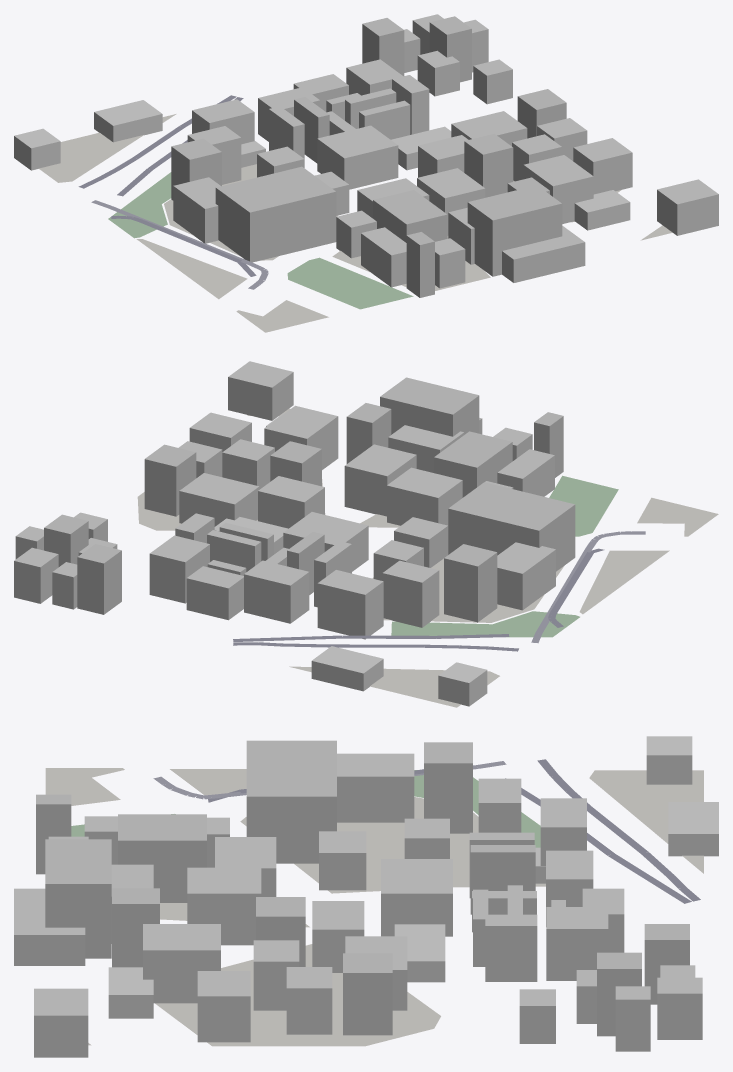
Rendered from 129_97_mid.glb.
3 renders of one model, top to bottom at view 1: azimuth 30°, elevation 25°; view 2: azimuth 150°, elevation 25°; view 3: azimuth 270°, elevation 25°, orthographic. The views are drawn at different scales.
Bounding box in the file's own units: 531 × 65.91 × 536.
